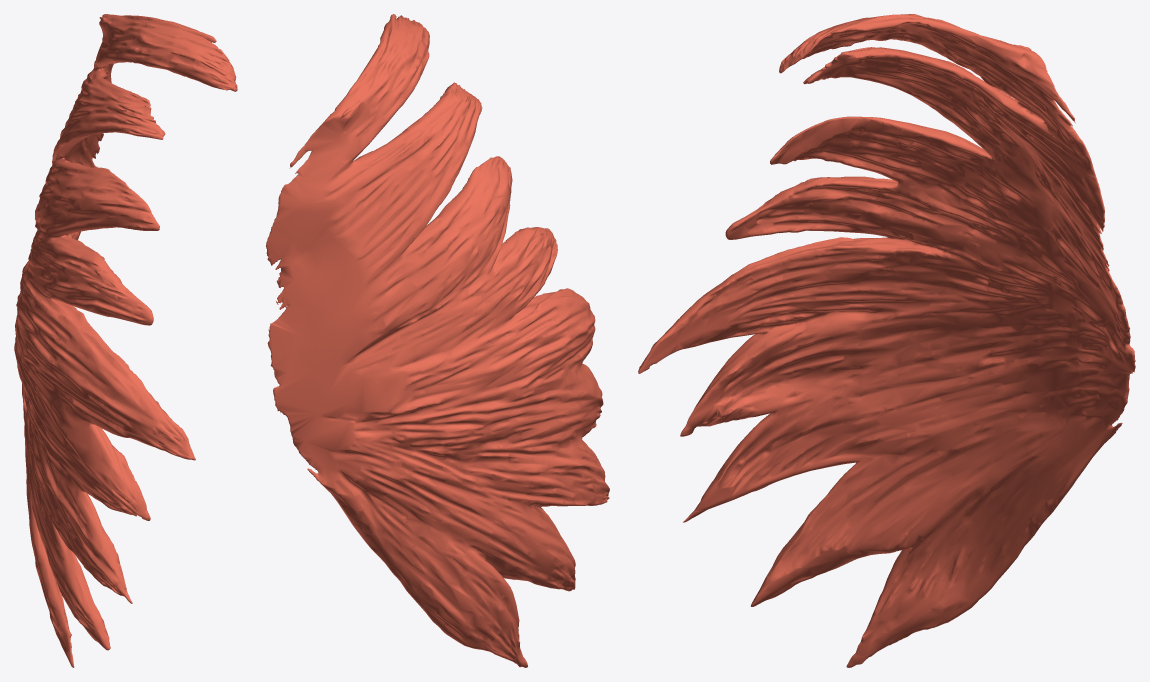
Rendered from serratus-anterior.glb.
3 renders of one model, left to right at view 1: azimuth 30°, elevation 25°; view 2: azimuth 150°, elevation 25°; view 3: azimuth 270°, elevation 25°, orthographic. The views are drawn at different scales.
Parts seen in each view (by area): view 1: Serratus anterior muscle.r; view 2: Serratus anterior muscle.r; view 3: Serratus anterior muscle.r.
Boxes of the visible parts, x1,y1,x2,y2 form: Serratus anterior muscle.r: [14, 14, 237, 667]; Serratus anterior muscle.r: [266, 14, 609, 667]; Serratus anterior muscle.r: [638, 14, 1135, 667].
Bounding box in the file's own units: 0.0864 × 0.2747 × 0.1721.
